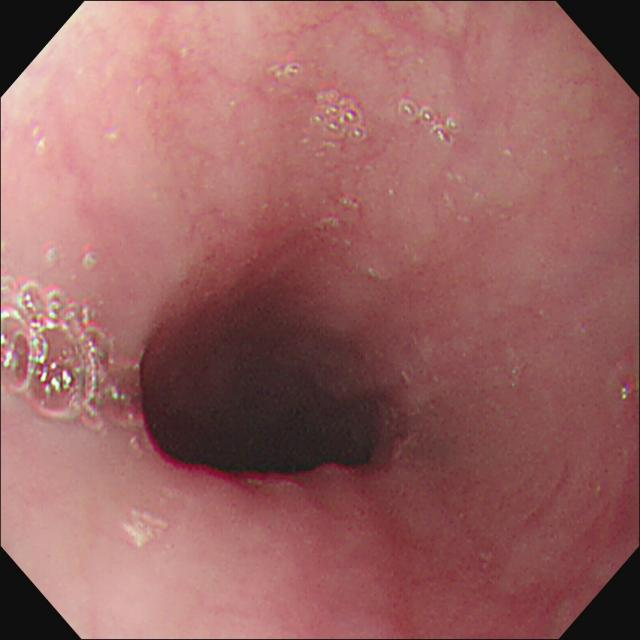E: (123, 270, 417, 505)
T: (2, 275, 140, 437), (308, 87, 370, 144), (399, 97, 462, 148), (268, 58, 309, 90)
